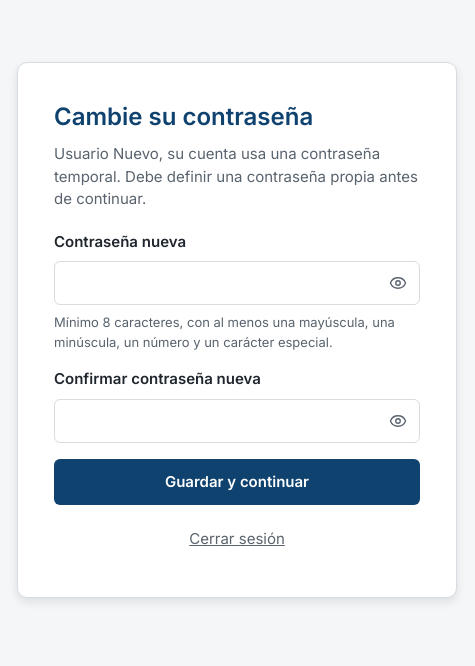
HU-044 - Cambio obligatorio de contraseña en el primer ingreso › definir la contraseña nueva › muestra el error del backend cuando el servidor rechaza la solicitud
In the password field labelled "Contraseña nueva": [237, 283] box [54,261,420,305], type "NuevaClave2026!"
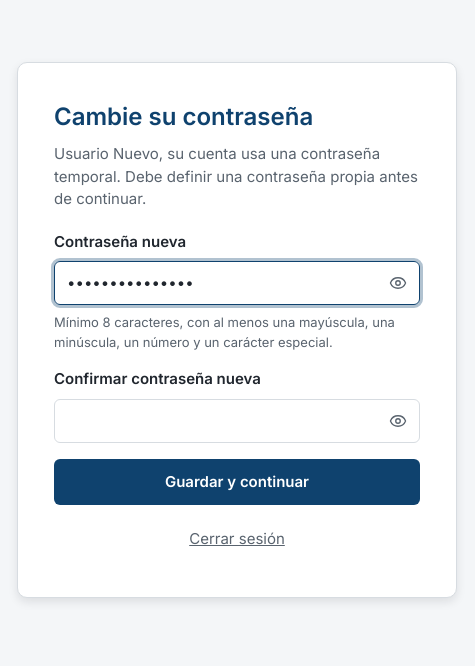
In the password field labelled "Confirmar contraseña nueva": [237, 421] box [54,399,420,443], type "NuevaClave2026!"
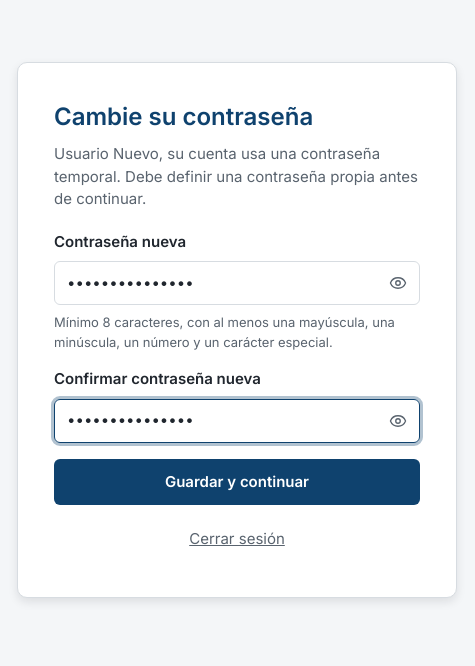
Click the button "Guardar y continuar": [237, 483] box [54,459,420,506]
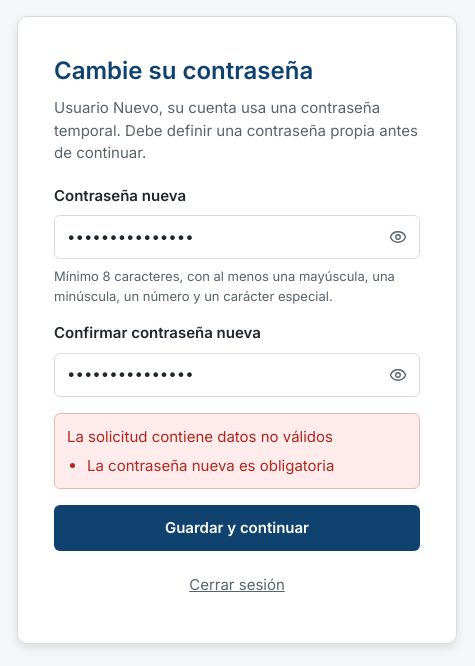
Expected: the list item "La contraseña nueva es obligatoria" is shown, [87,456,334,474]
